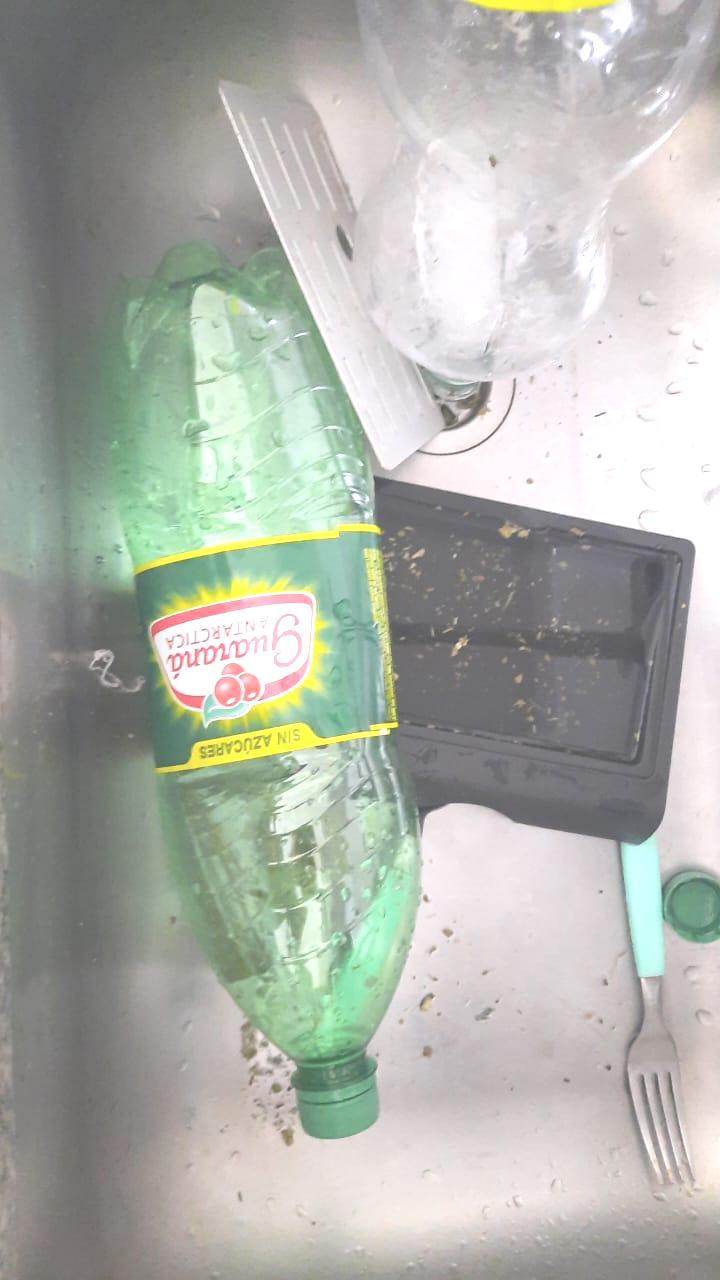bottle: (101, 232, 430, 1142), (342, 0, 714, 376)
